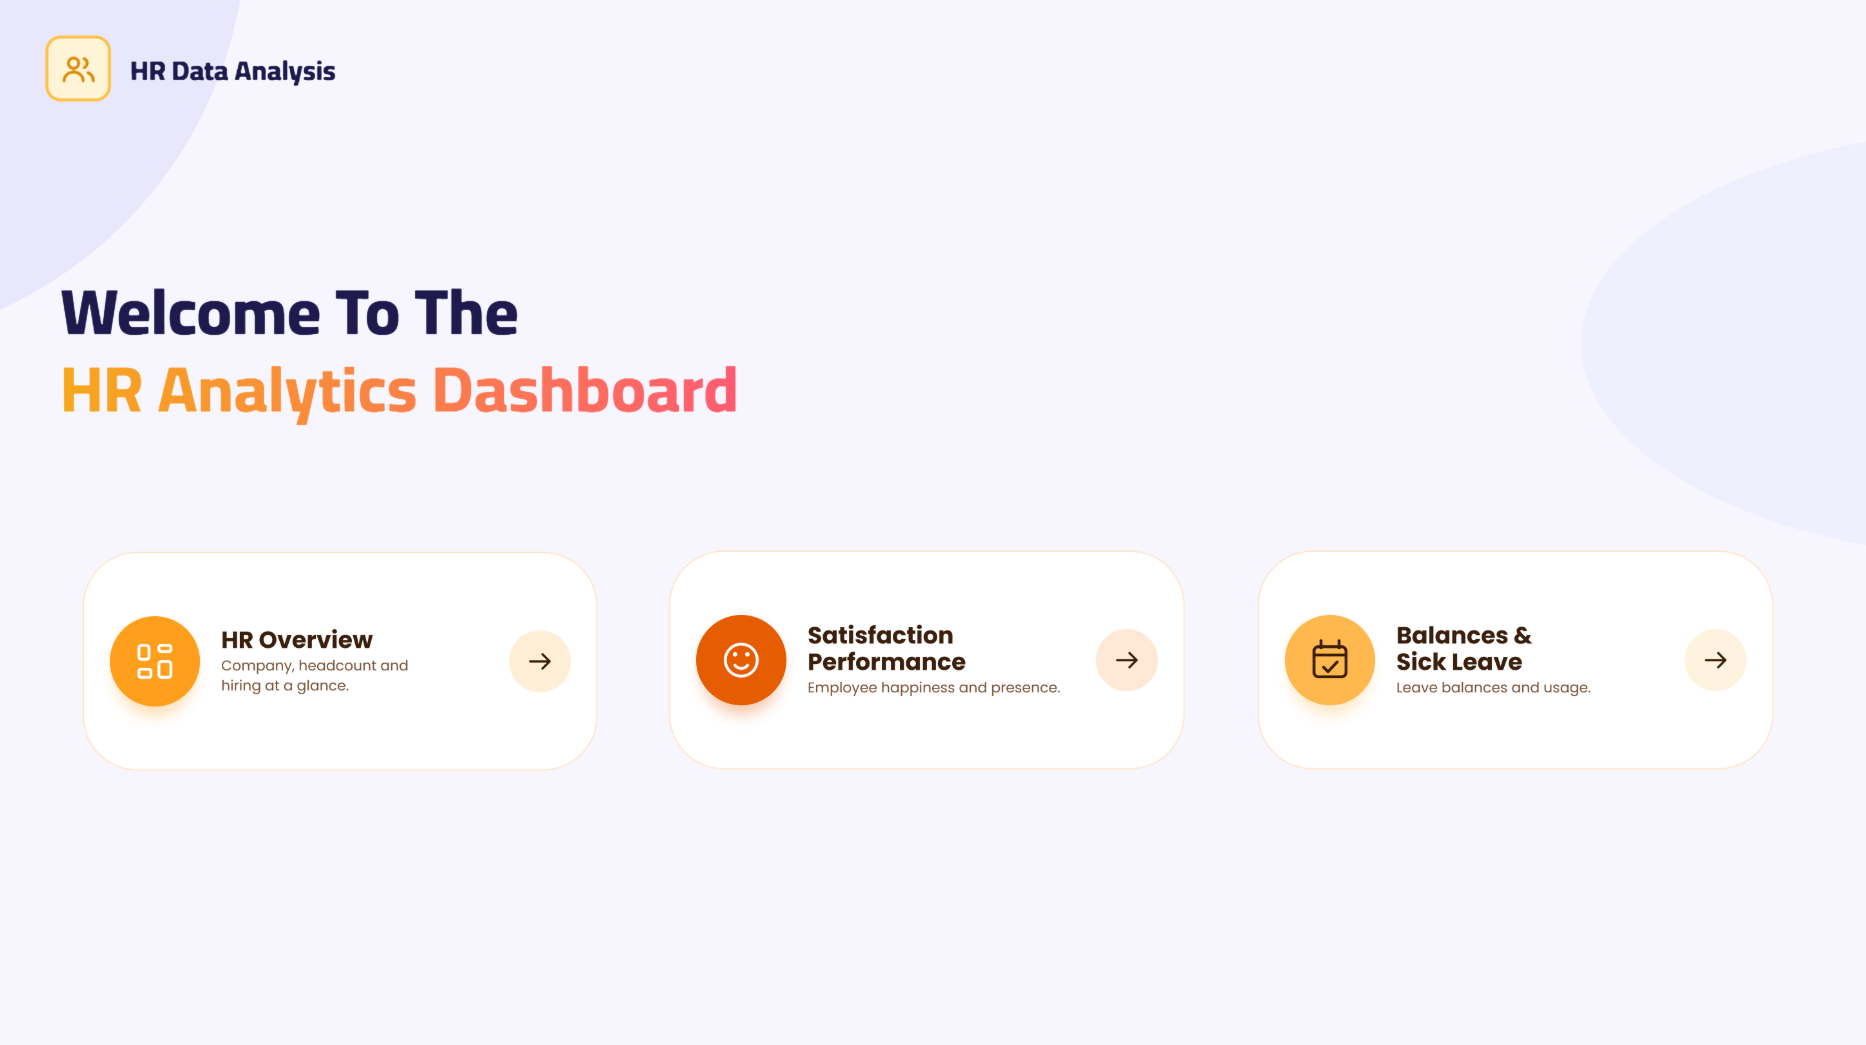

The page's visual inventory and layout, read from the dashboard file:
{"tool":"powerbi","page":{"name":"Home","canvas":[1920,1080],"ordinal":0},"visuals":[{"type":"image","box":[0,0,1920,1080.6],"z":0},{"type":"image","box":[0,239,821.5,272.1],"z":1000},{"type":"image","box":[0,29.7,458.7,95.9],"z":2000},{"type":"image","box":[689.2,562,527,235],"z":4000},{"type":"image","box":[1290.9,562,527,235],"z":5000},{"type":"image","box":[90.7,563.4,526.7,235.5],"z":5001}]}

Visuals, with their boxes in screenshot pixels (x1, y1, x2, y2), scaled from the page's 1920x1080 canvas onto the 1866x1045 screenshot:
image: <bbox>0, 0, 1865, 1044</bbox>
image: <bbox>0, 231, 798, 495</bbox>
image: <bbox>0, 29, 446, 122</bbox>
image: <bbox>670, 544, 1182, 771</bbox>
image: <bbox>1255, 544, 1767, 771</bbox>
image: <bbox>88, 545, 600, 773</bbox>
